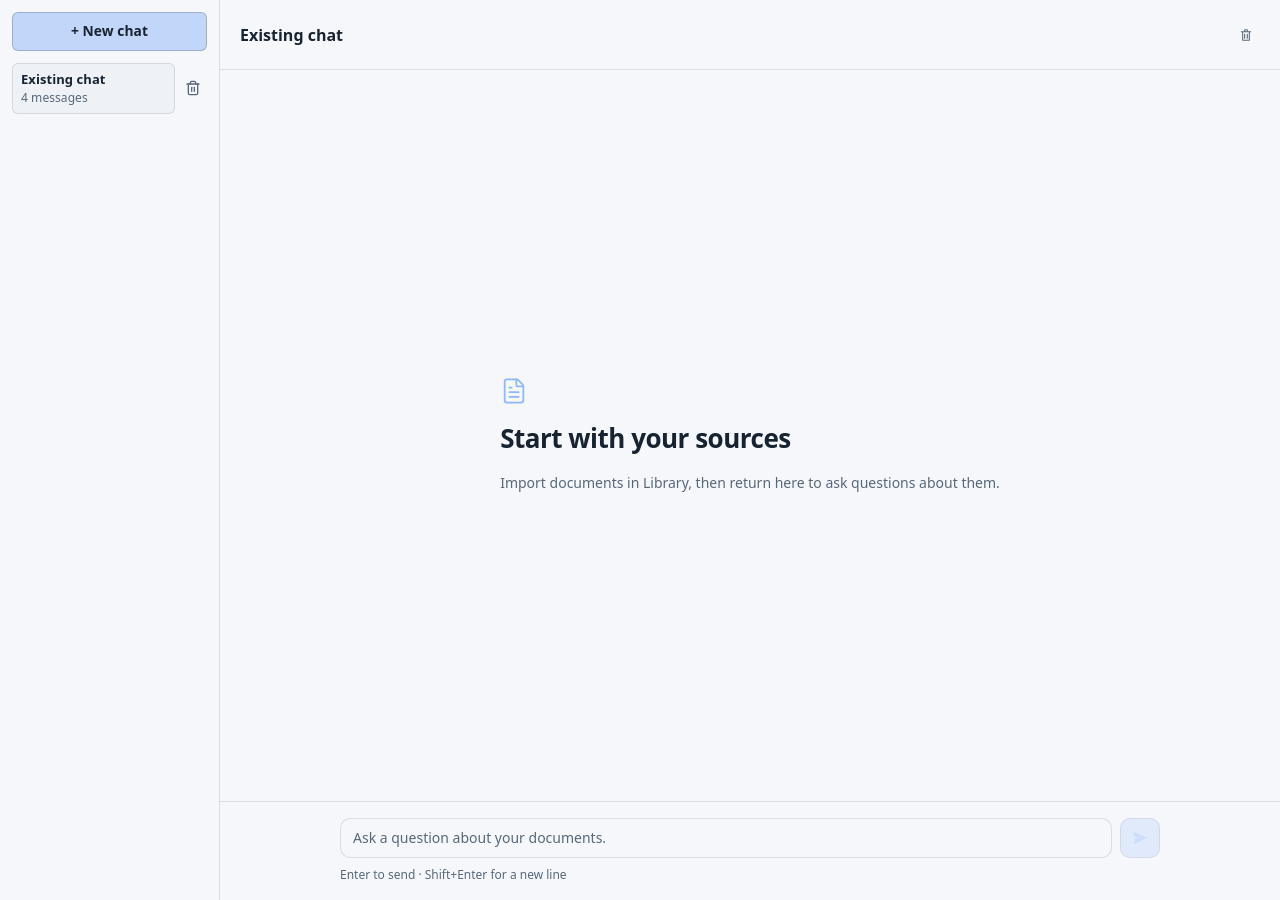
Test case: regenerate an existing chat turn › rejects an incomplete tail without deleting an earlier completed exchange
This screenshot has width=1280, height=900.
Click the button "Existing chat 4 messages".
click(94, 88)  # box [12, 63, 175, 114]
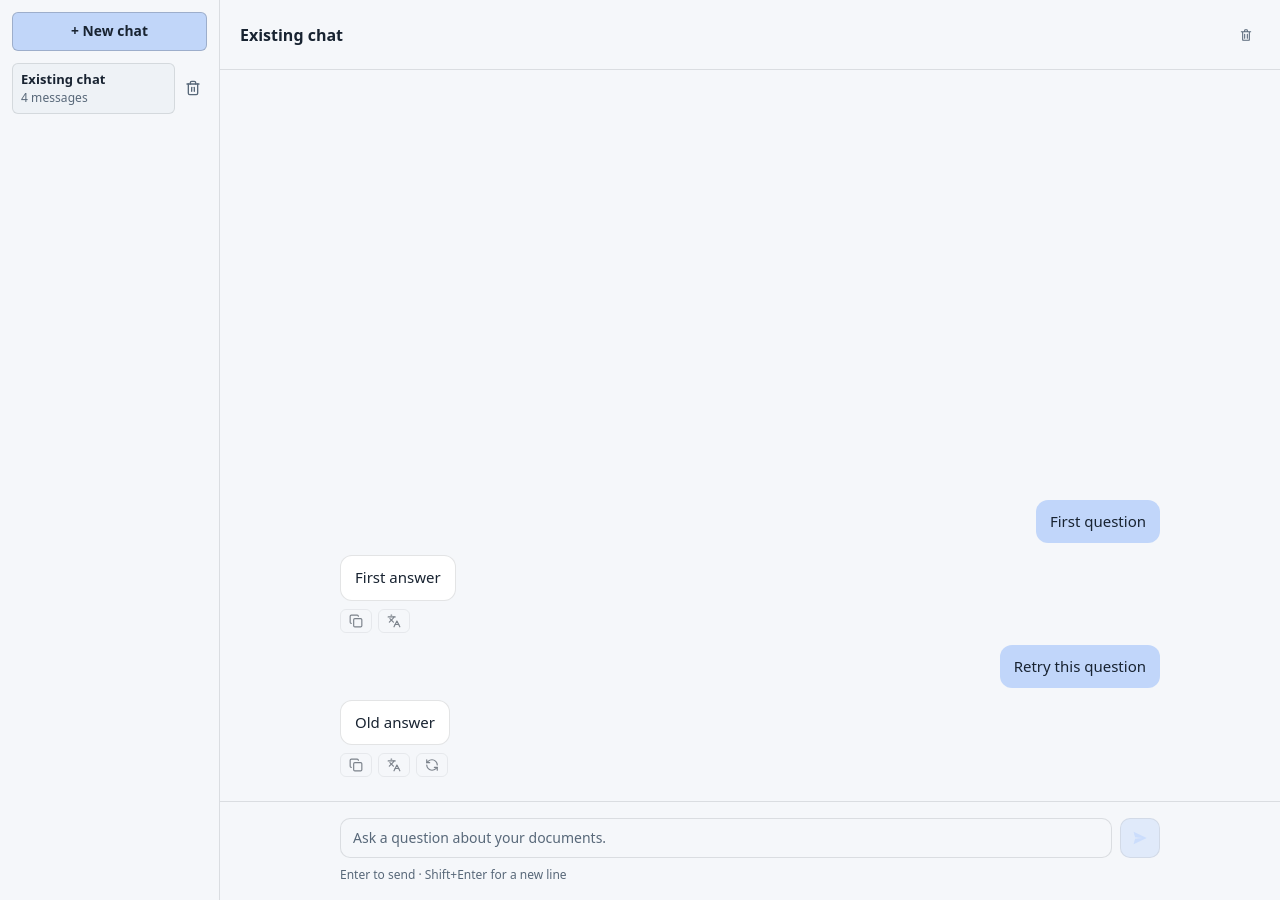
Check: the text "Old answer" is shown, box [355, 711, 435, 734]
Click the button named "Regenerate".
click(432, 765)  # box [416, 753, 448, 777]
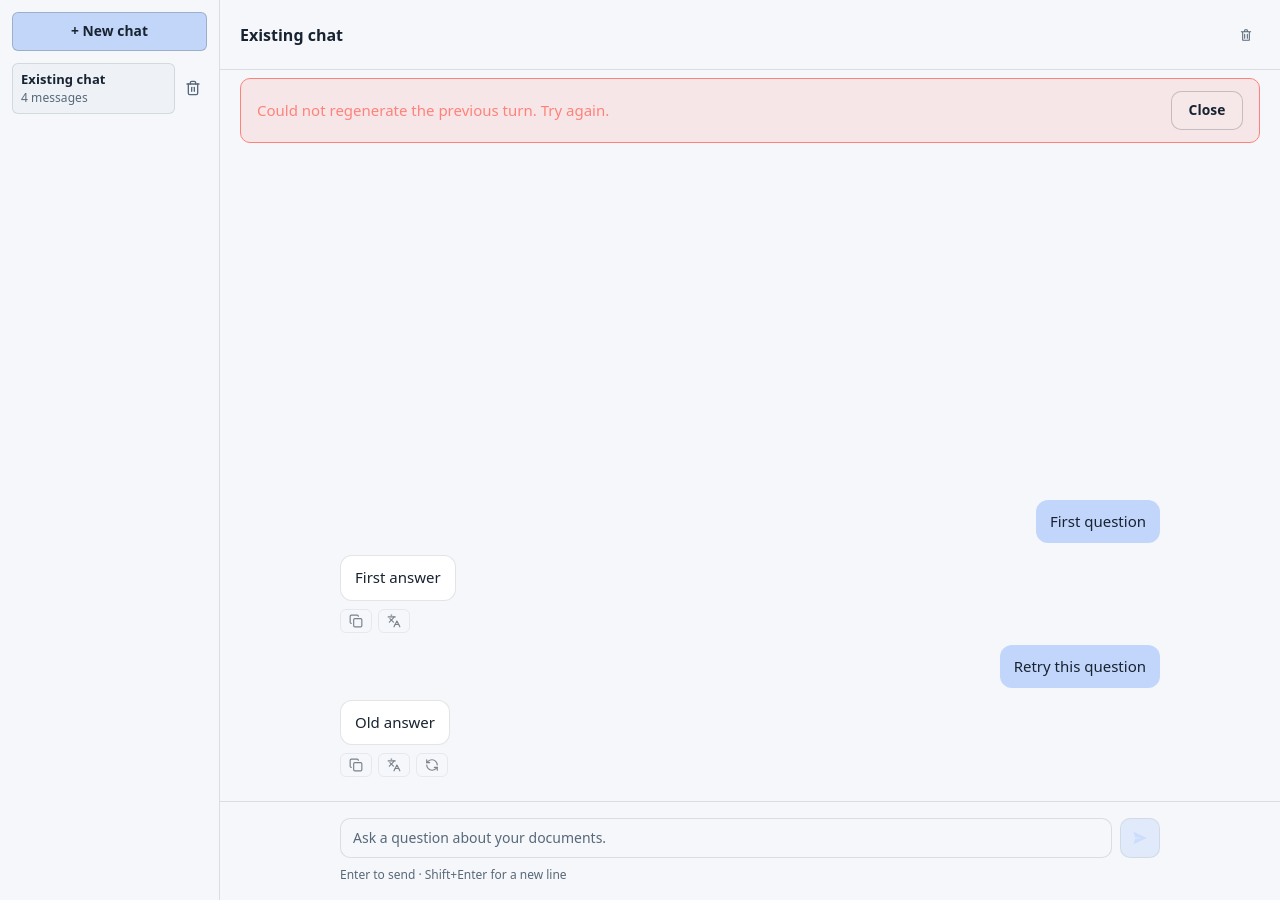
Check: the message shows "Could not regenerate", box [257, 100, 609, 120]
